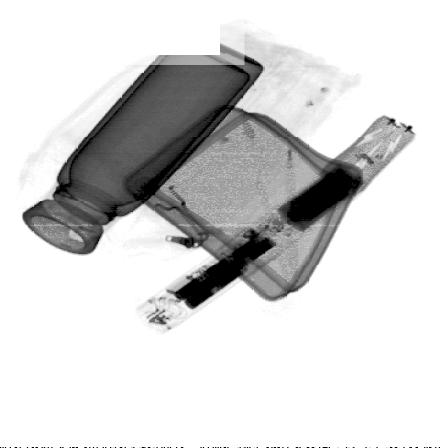Baton: (129, 112, 422, 337)
